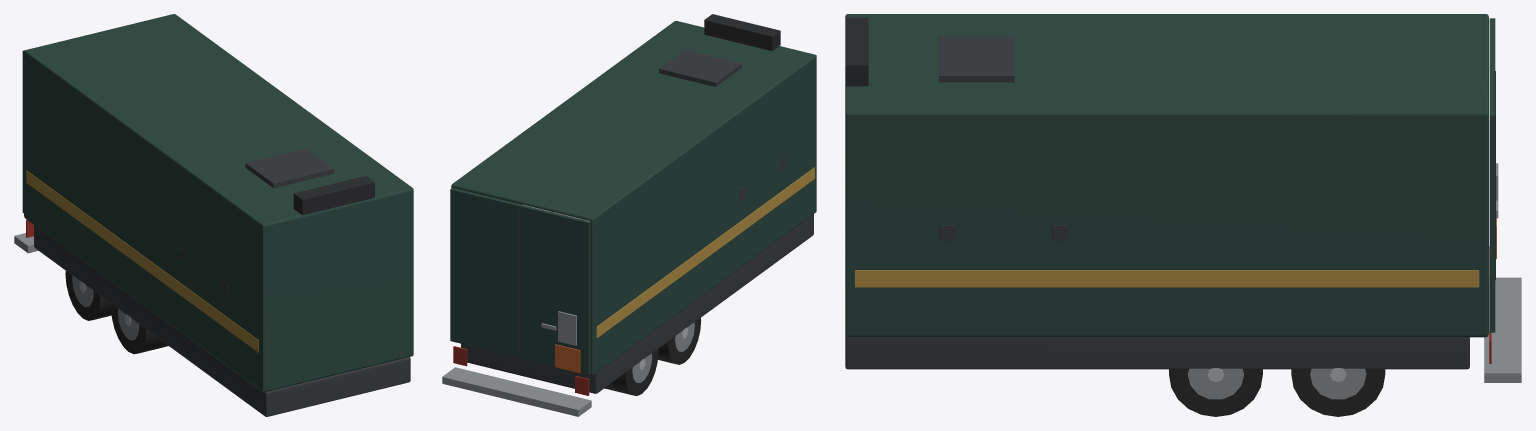
Rendered from veh_armored_truck_bullion.glb.
3 views of the same model, side by side, from view 1: azimuth 30°, elevation 25°; view 2: azimuth 150°, elevation 25°; view 3: azimuth 270°, elevation 25° (orthographic). The views are drawn at different scales.
Visible parts, largest first — view 1: Body, Wheels, Rear; view 2: Body, DoorMesh, Rear, Wheels; view 3: Body, Wheels, Rear, DoorMesh.
Boxes of the visible parts, left/top/right/bottom form: Body: left=24, top=14, right=413, bottom=416; Wheels: left=65, top=271, right=168, bottom=354; Rear: left=14, top=219, right=38, bottom=253; Body: left=451, top=14, right=816, bottom=393; DoorMesh: left=450, top=188, right=590, bottom=374; Rear: left=442, top=346, right=591, bottom=416; Wheels: left=604, top=318, right=701, bottom=395; Body: left=845, top=14, right=1488, bottom=369; Wheels: left=1169, top=368, right=1385, bottom=416; Rear: left=1484, top=246, right=1521, bottom=382; DoorMesh: left=1489, top=18, right=1498, bottom=332.
Bounding box in the file's own units: 2.52 × 3.85 × 7.19.
